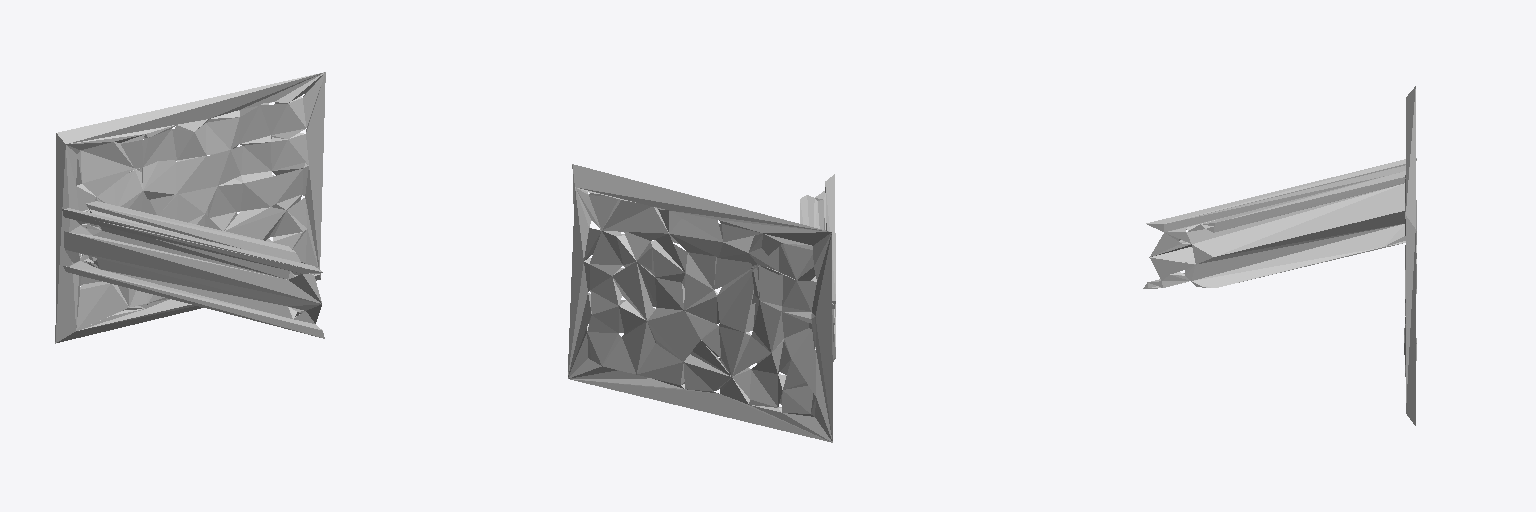
The model's file is body_link0_1.obj.
The picture shows the model from 3 angles: view 1: azimuth 30°, elevation 25°; view 2: azimuth 150°, elevation 25°; view 3: azimuth 270°, elevation 25°; orthographic projection.
Visible parts, largest first — view 1: body_link0_1; view 2: body_link0_1; view 3: body_link0_1.
Part boxes in pixels (x1,y1,x2,y2): body_link0_1: (55,72,325,343); body_link0_1: (568,164,835,442); body_link0_1: (1143,86,1416,425).
Bounding box in the file's own units: 248 × 189 × 222.